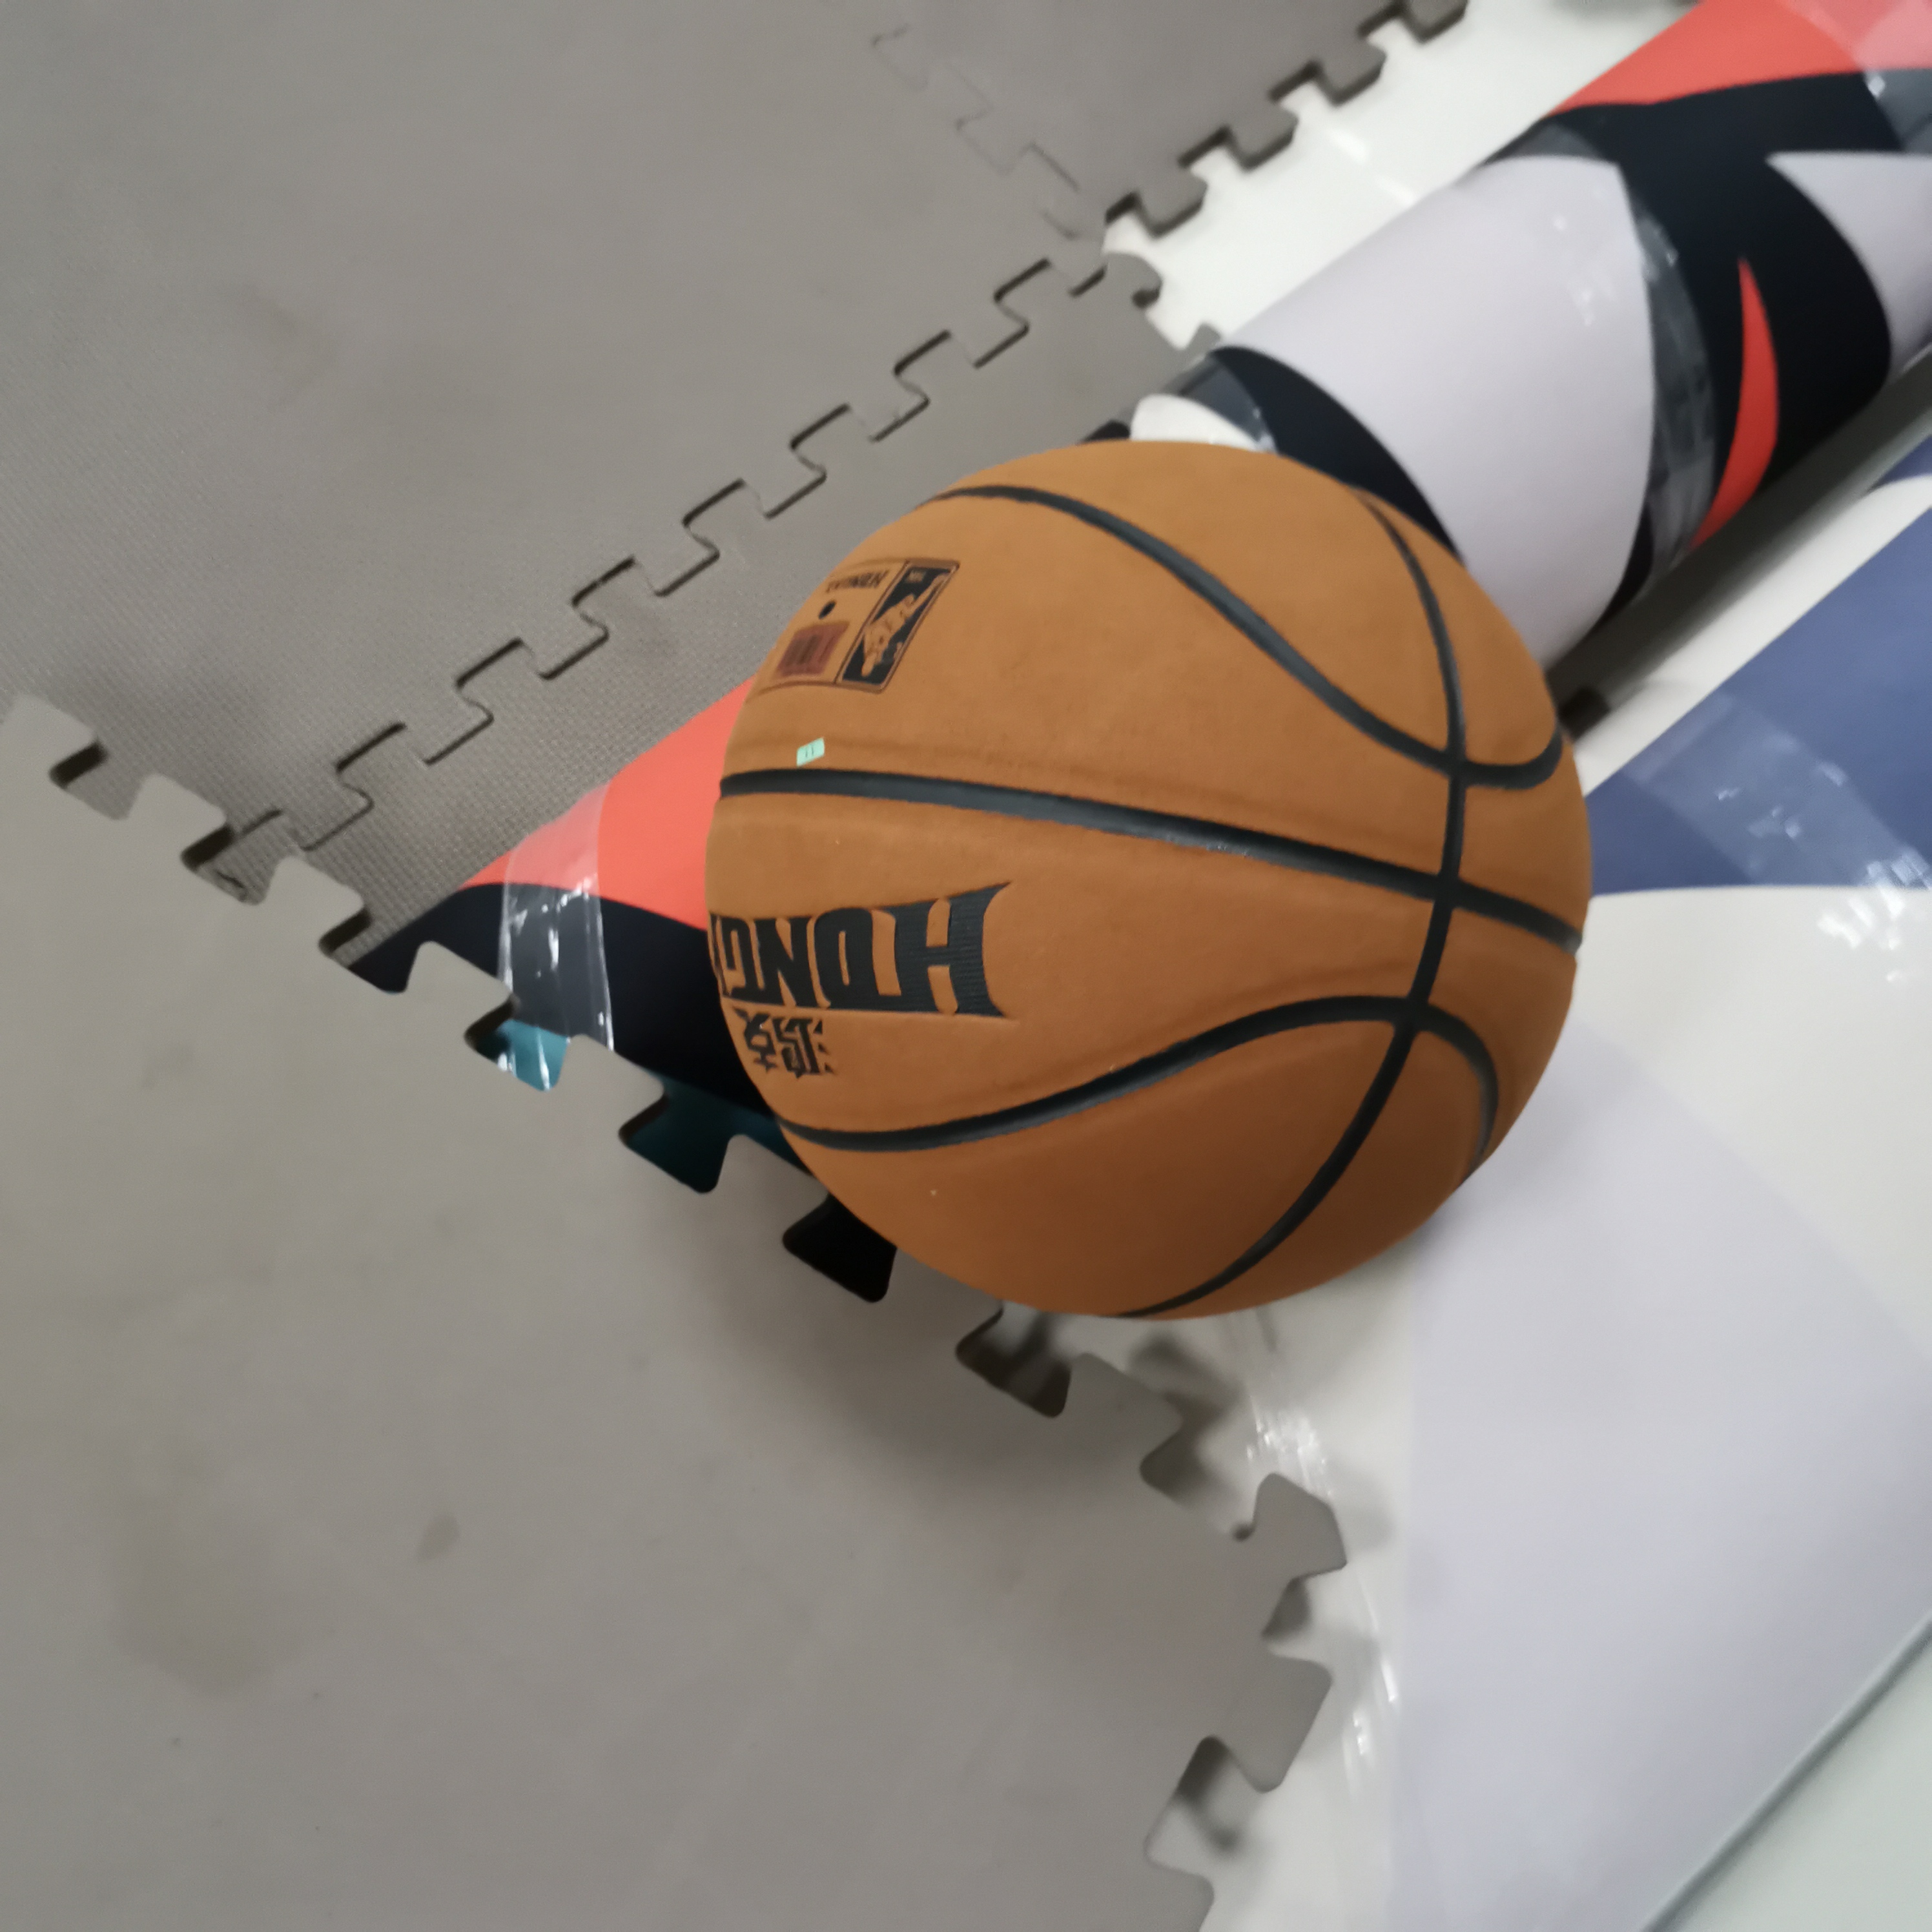basketball: (702, 441, 1589, 1320)
